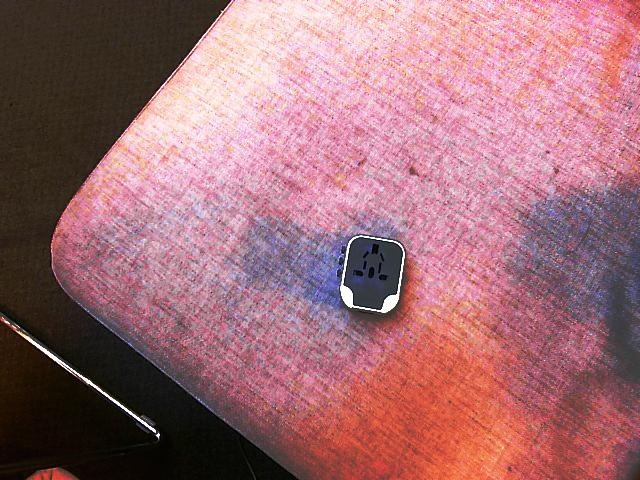adapter: (336, 233, 404, 315)
